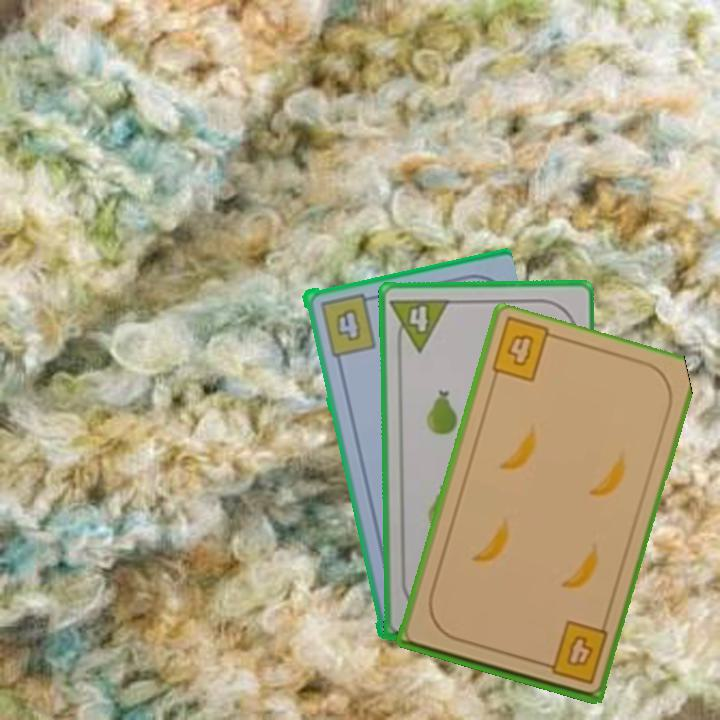4b: (535, 618, 611, 687), (316, 289, 379, 358), (502, 329, 537, 369)
4p: (387, 294, 452, 355)
